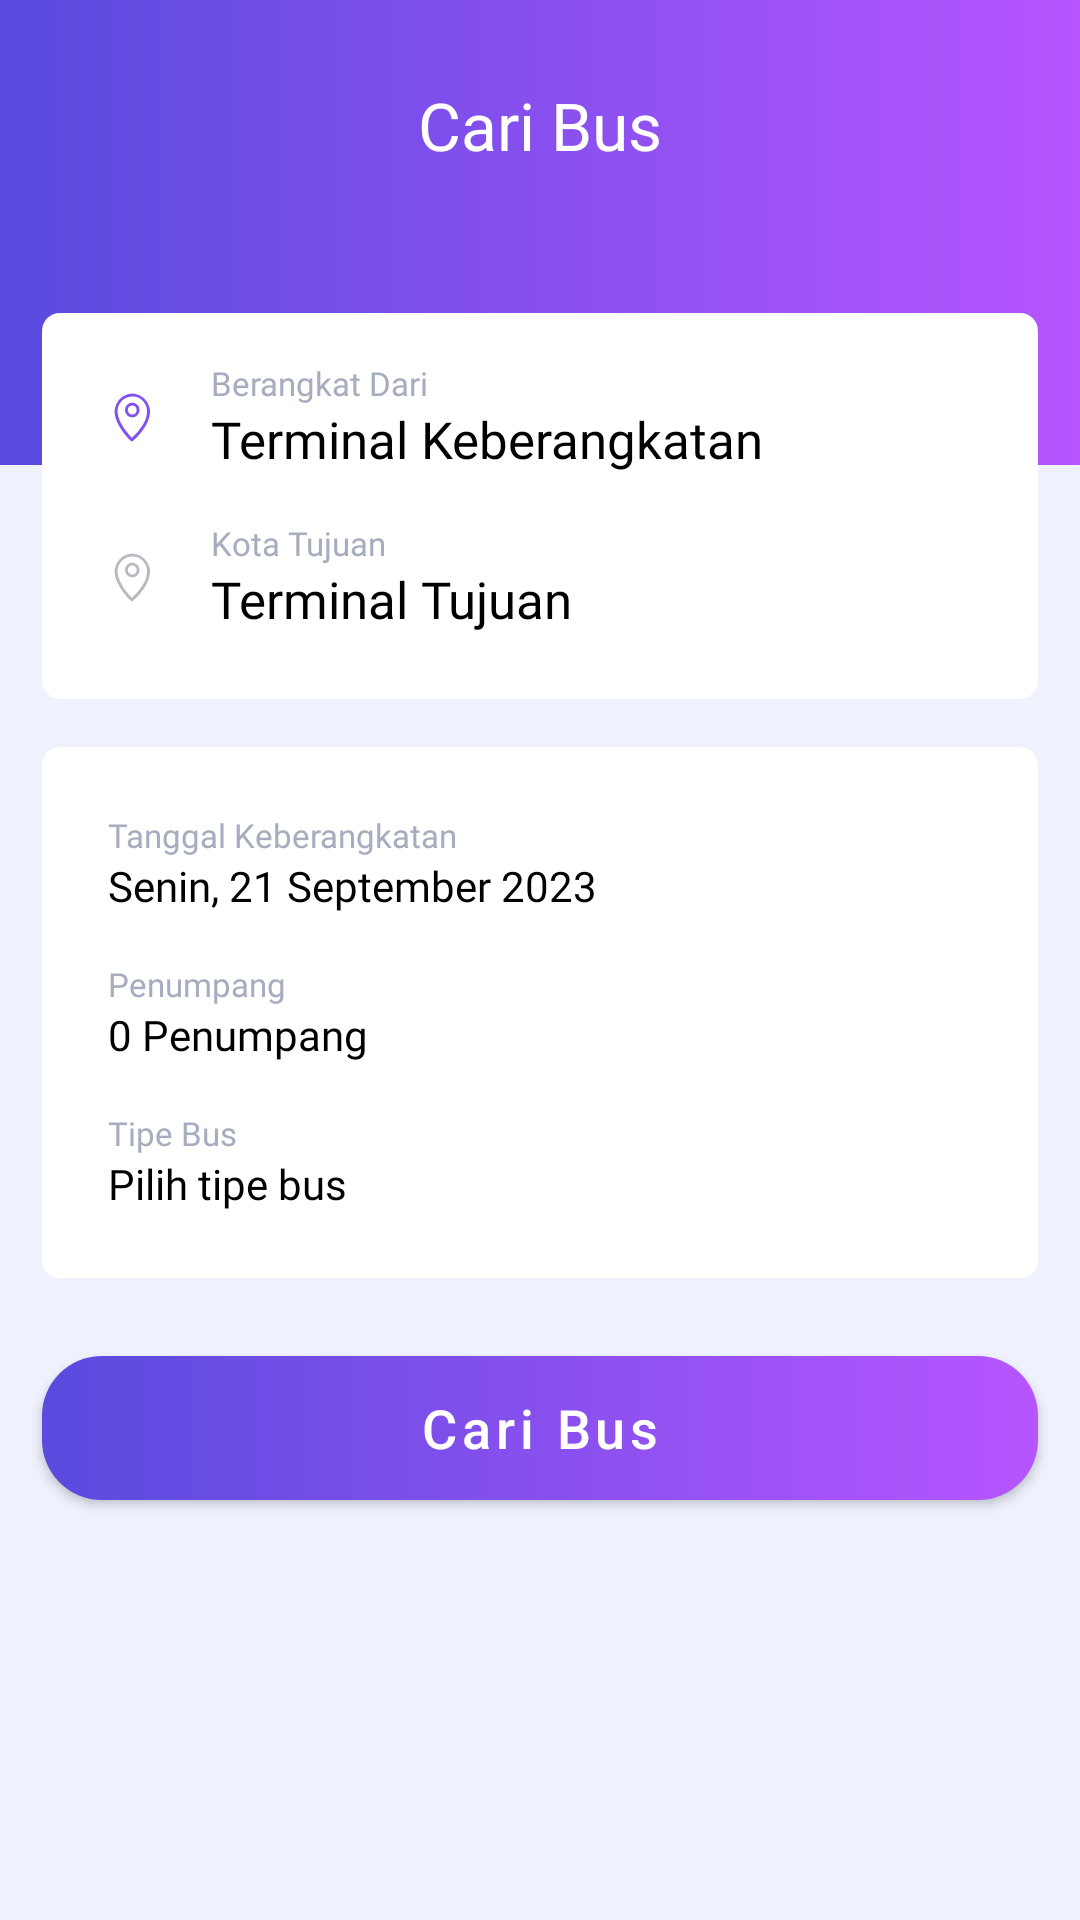

Icon bounding boxes for this 1080×1920 phone screenshot, format (x1, y1, x2, y2):
location from: (114, 393, 150, 442)
location to: (114, 553, 150, 602)
